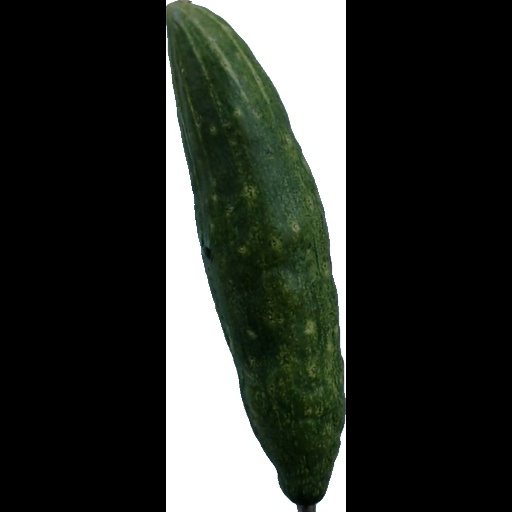concombre: (167, 1, 346, 512)
